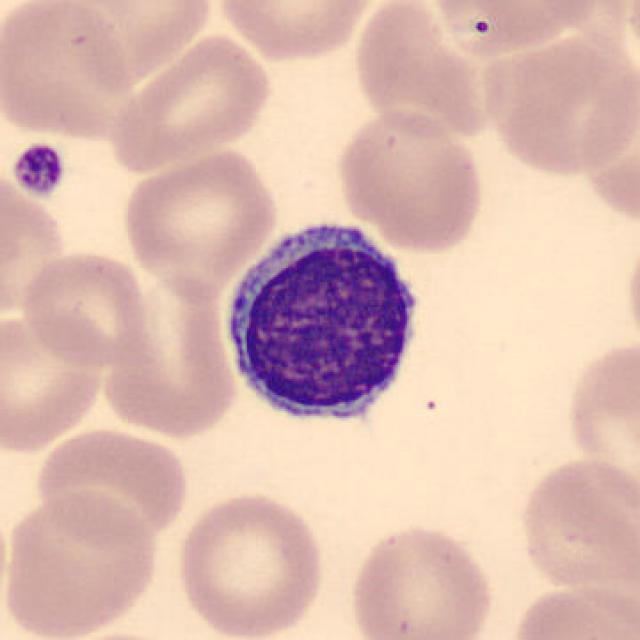Lymphocyte: (212, 207, 432, 438)
Platelets: (7, 141, 68, 199)
RBC: (66, 250, 242, 441), (3, 488, 167, 640), (476, 28, 638, 180), (171, 488, 329, 640), (107, 30, 276, 171), (119, 141, 281, 286), (333, 106, 487, 254), (348, 0, 502, 143), (0, 0, 142, 143), (30, 425, 192, 546), (345, 520, 498, 640), (16, 247, 158, 372), (514, 453, 638, 593), (0, 306, 110, 456), (41, 0, 220, 90), (0, 164, 75, 324), (562, 335, 638, 490), (213, 0, 382, 63), (423, 0, 605, 58), (583, 64, 640, 216), (505, 582, 638, 640), (622, 226, 640, 358)
